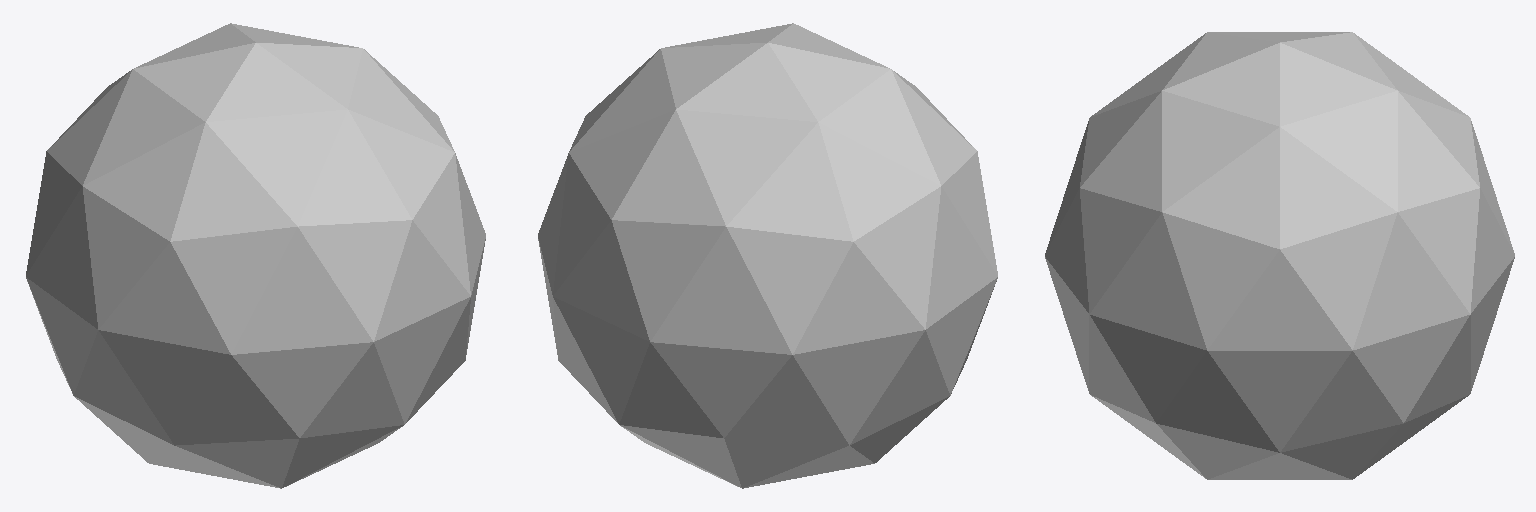
The model's file is staffTop.obj.
The picture shows the model from 3 angles: view 1: azimuth 30°, elevation 25°; view 2: azimuth 150°, elevation 25°; view 3: azimuth 270°, elevation 25°; orthographic projection.
Visible parts, largest first — view 1: Icosphere; view 2: Icosphere; view 3: Icosphere.
Boxes of the visible parts, x1,y1,x2,y2 form: Icosphere: [26, 23, 485, 488]; Icosphere: [538, 23, 997, 488]; Icosphere: [1045, 32, 1514, 479].
Size of the model in its own units: 0.7608 by 0.8 by 0.8.